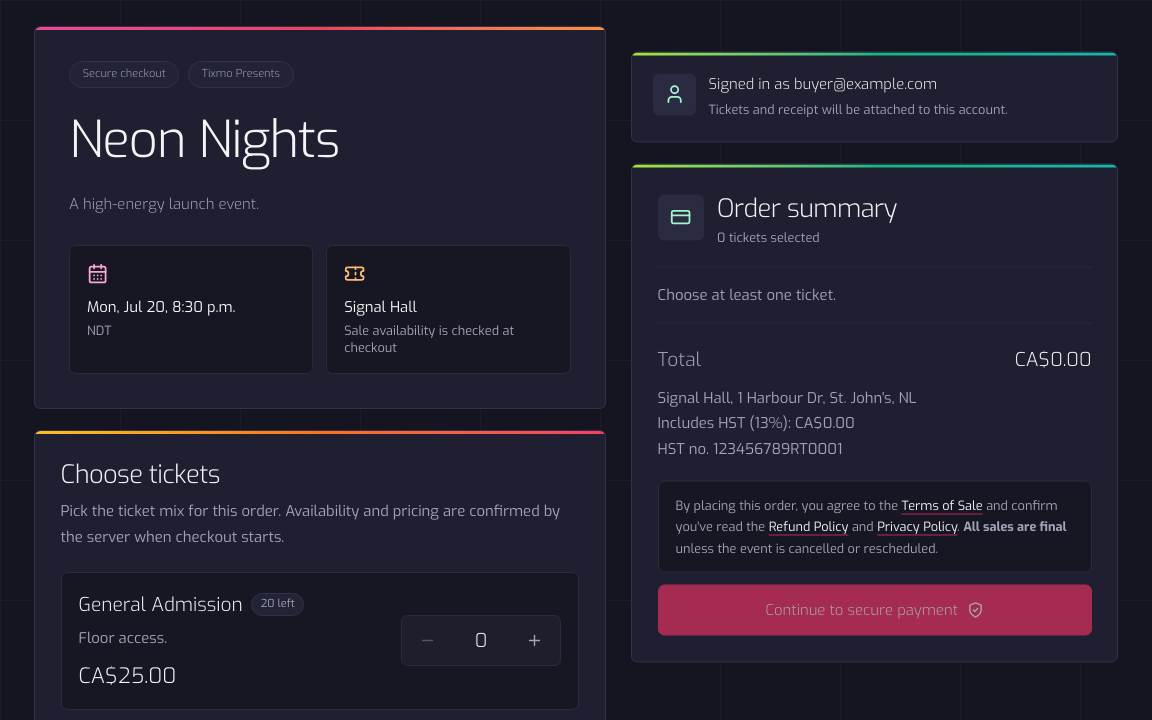
Scenario: CheckoutPage › shows the HST registration number from the public event when it is set
Expected: the text "HST no. 123456789RT0001" is shown, [658,438,842,458]
Click the button named "Increase General Admission".
click(535, 641)  # box [509,616,560,665]
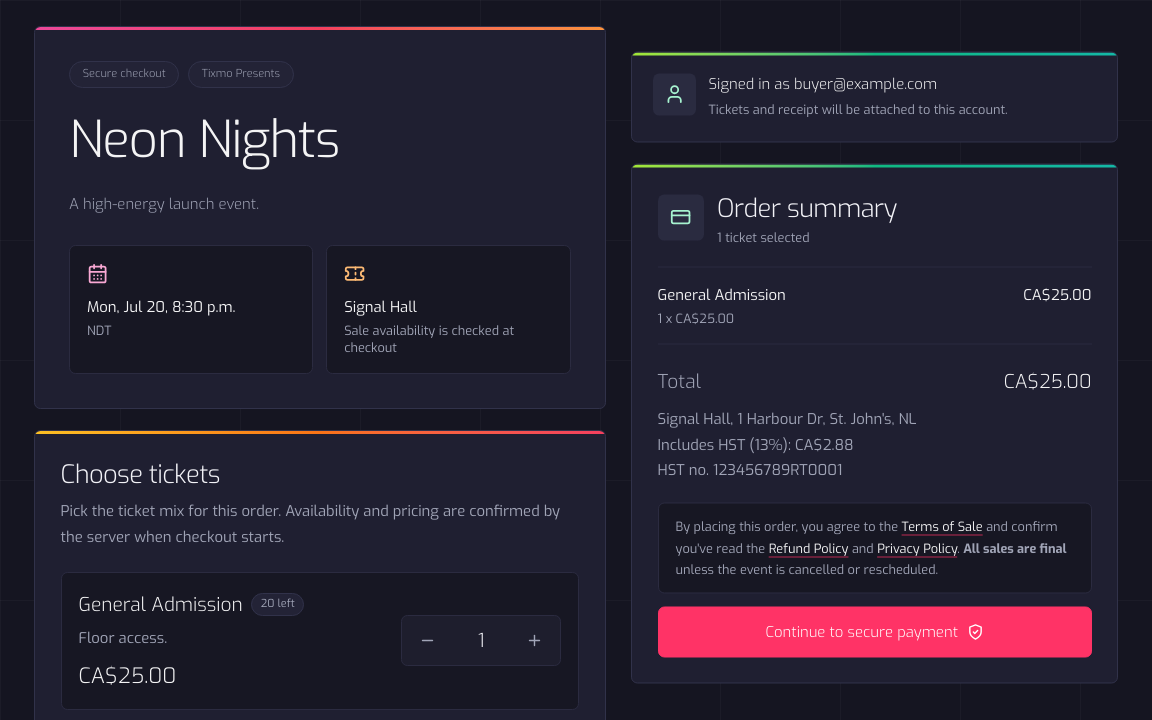
Expected: the text "Signal Hall, 1 Harbour Dr, St. John's, NL" is shown, [658,409,917,429]
Expected: the text "Includes HST (13%): CA$2.88" is shown, [658,434,854,454]
